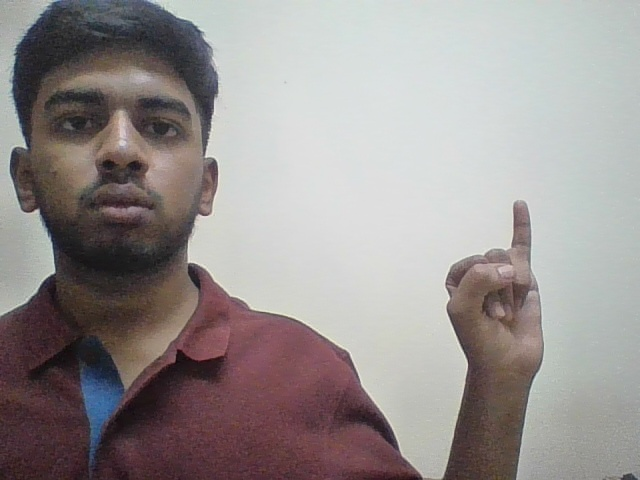I: (437, 193, 568, 403)
